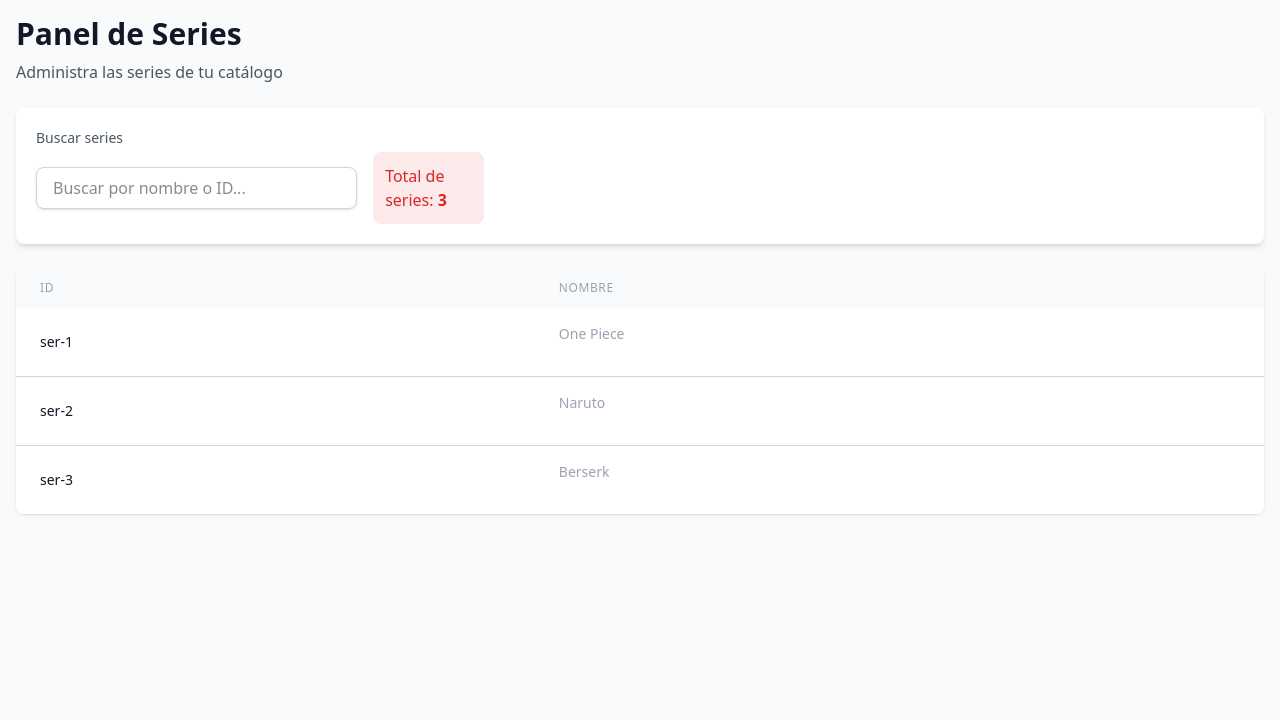
Test: SeriesTable › filtra series por ID
Type "ser-1" into the field with placeholder "Buscar por nombre o ID..." at (197, 188), box [36,167,357,209]
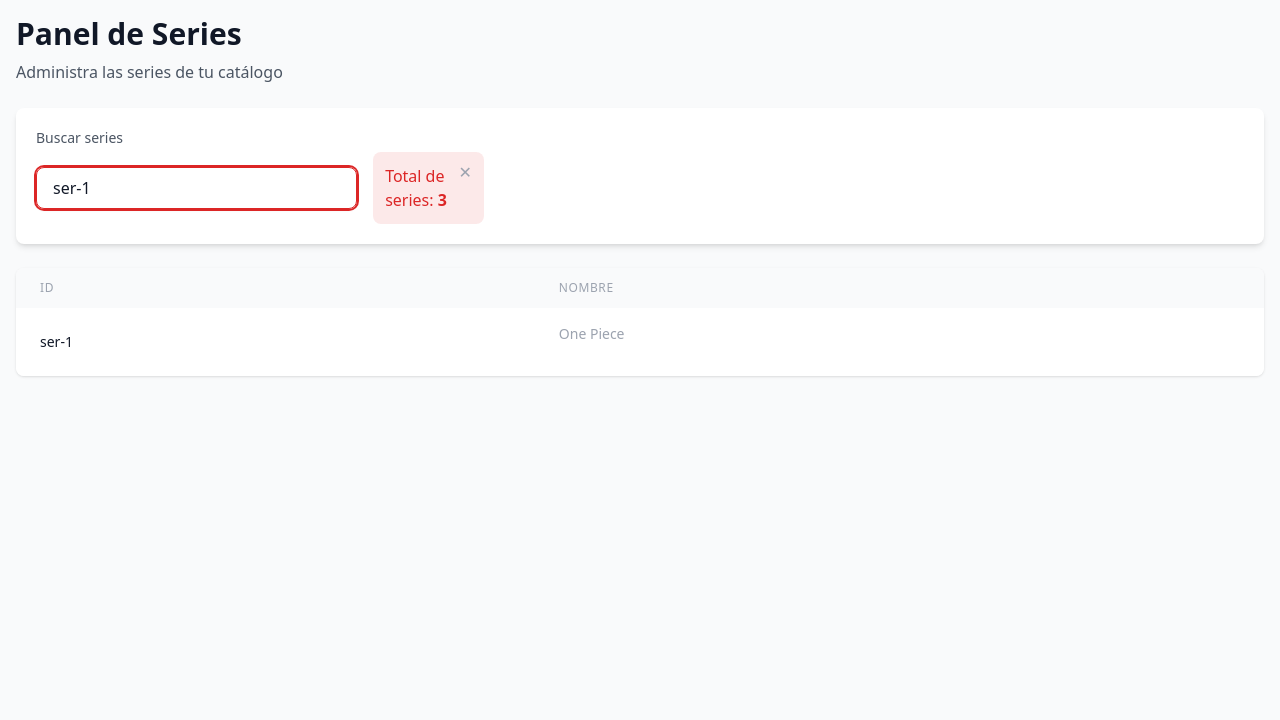
Expected: the text "One Piece" is shown, [559,324,624,343]
Expected: the text "Naruto" is gone
